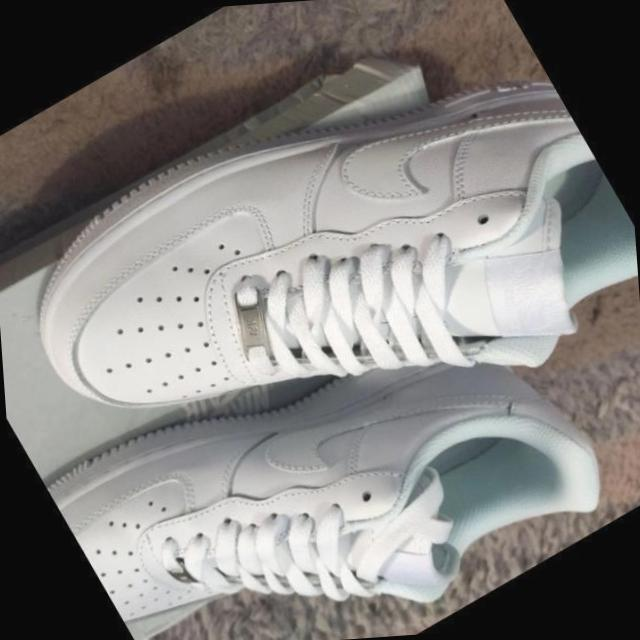nike_original_airforce: (0, 0, 640, 587), (26, 217, 637, 640)
